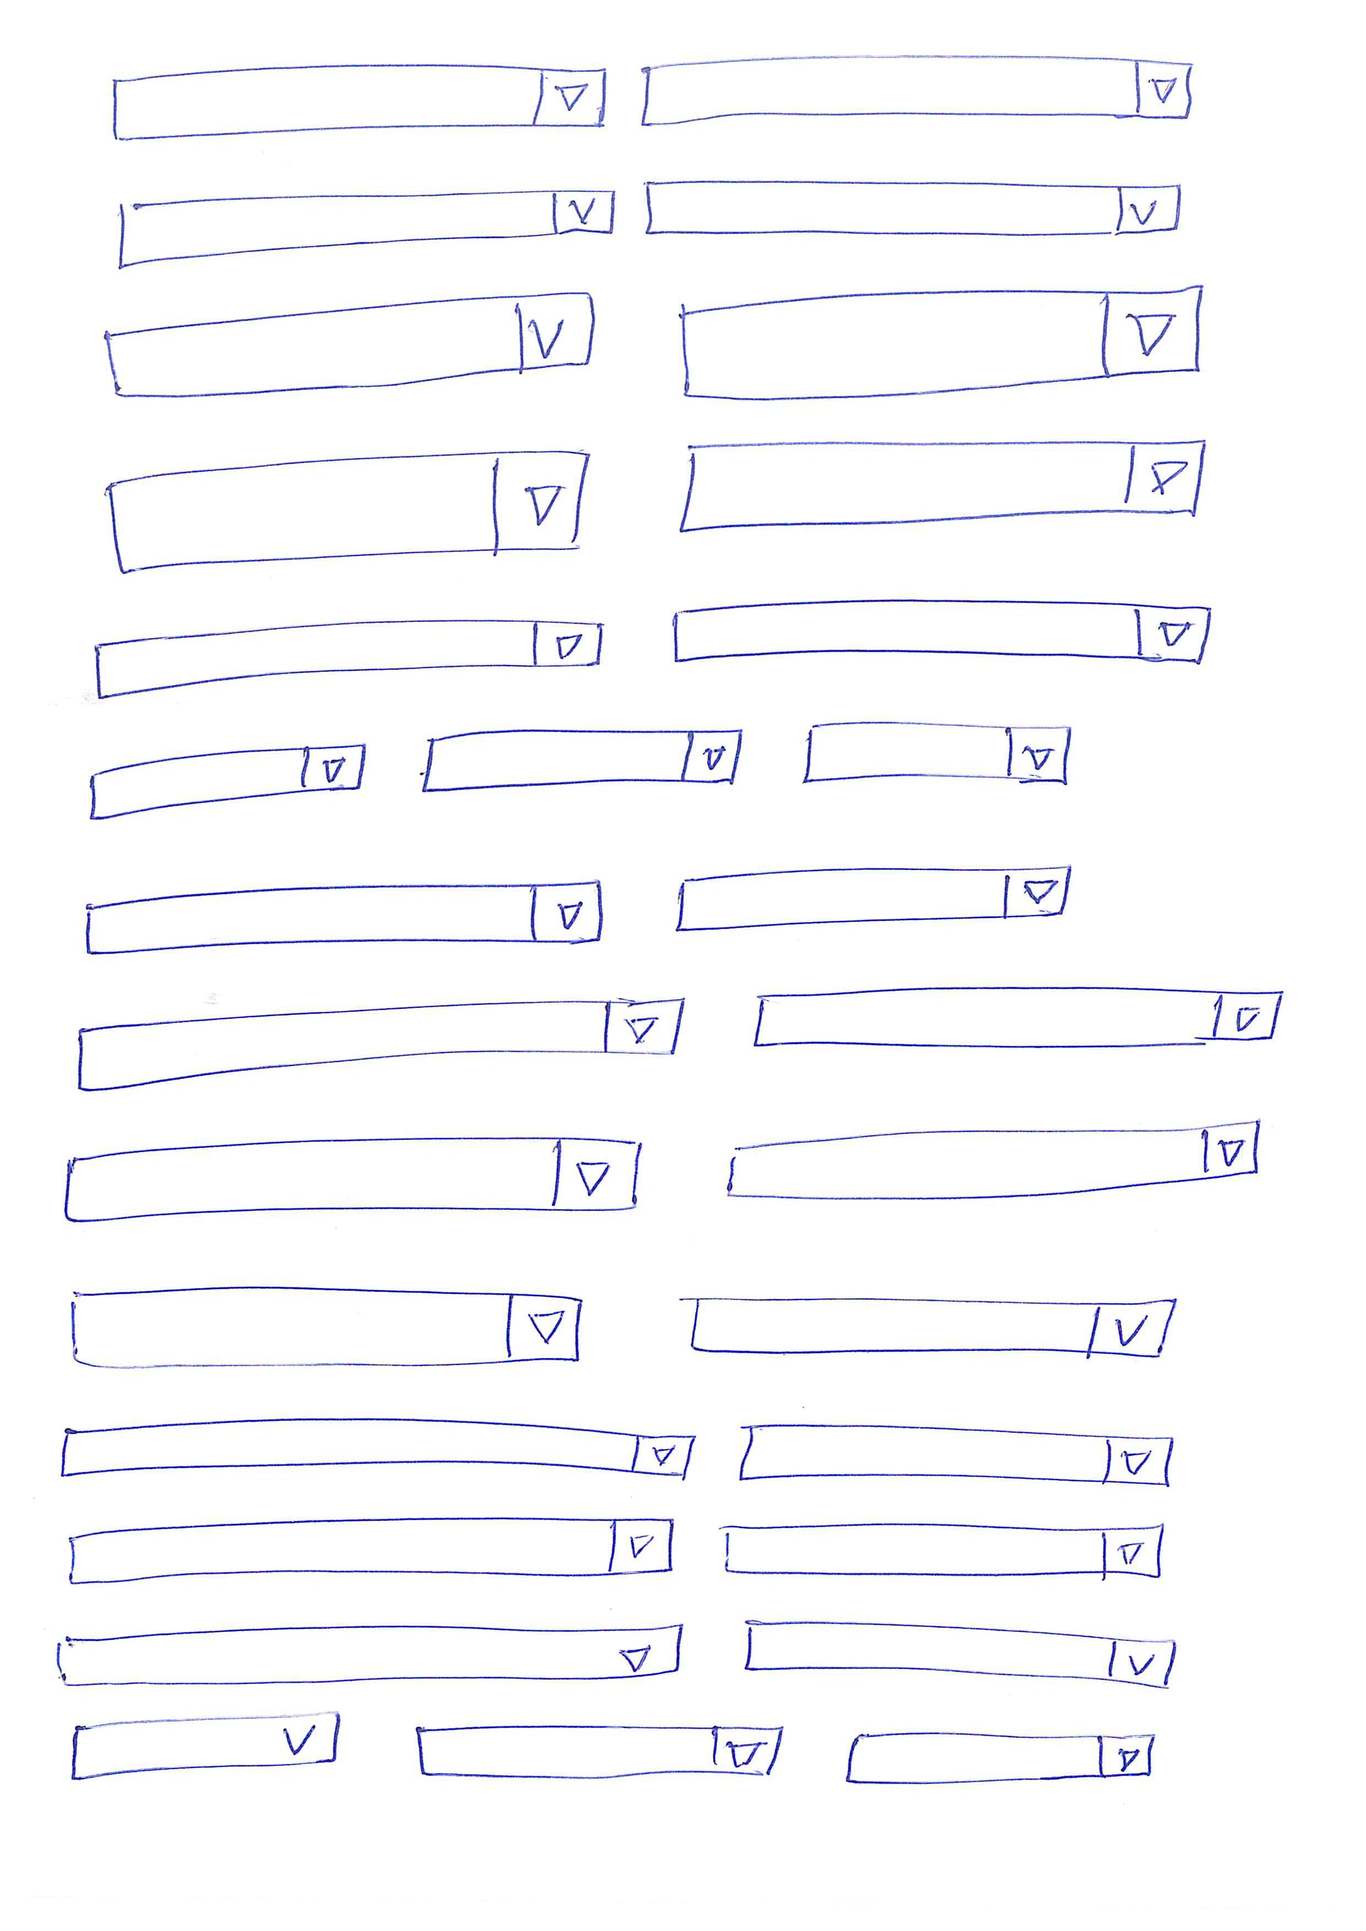Select: (676, 281, 1206, 407), (101, 444, 591, 577), (71, 992, 686, 1094), (99, 285, 597, 404), (674, 436, 1209, 534), (59, 1136, 645, 1224), (114, 179, 621, 276), (64, 1511, 674, 1589), (717, 1116, 1263, 1202), (89, 614, 605, 701), (636, 52, 1196, 132), (55, 1412, 696, 1482), (81, 875, 608, 960), (52, 1621, 689, 1689), (67, 1289, 584, 1372), (109, 61, 611, 143), (670, 594, 1217, 667), (750, 980, 1286, 1051), (642, 176, 1187, 240), (687, 1291, 1177, 1357), (741, 1621, 1175, 1691), (736, 1421, 1175, 1489), (671, 863, 1070, 936), (721, 1524, 1166, 1582), (415, 722, 747, 798), (81, 736, 371, 824), (414, 1720, 786, 1782), (62, 1709, 339, 1786), (841, 1728, 1156, 1791), (798, 722, 1073, 791)
